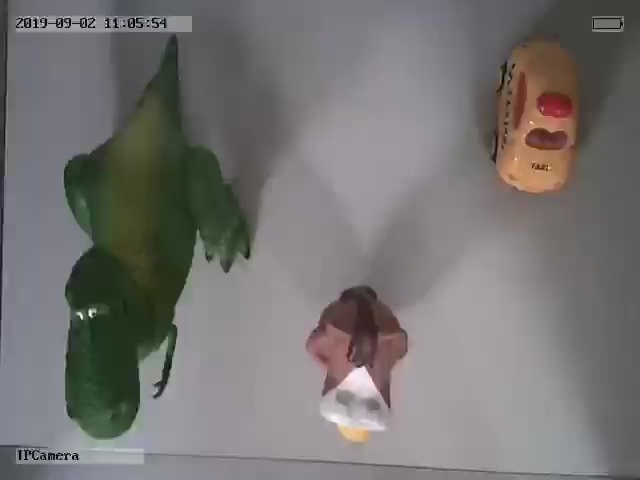car: (491, 39, 580, 196)
horse: (306, 285, 409, 445)
rex: (62, 49, 251, 441)
